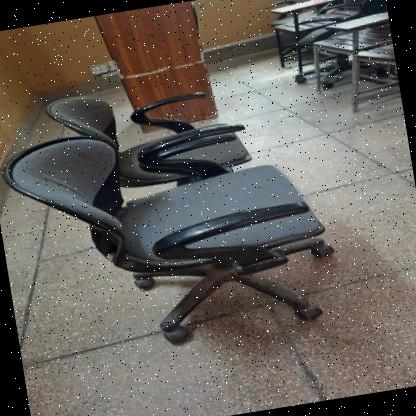chair: (0, 95, 355, 384), (25, 63, 265, 212)
